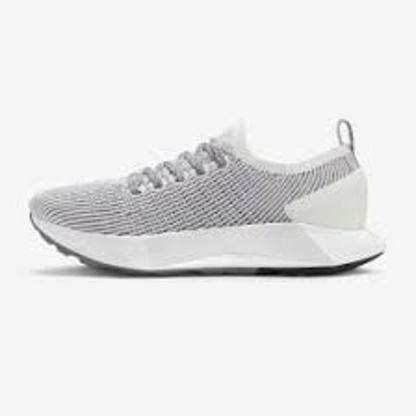not trash: (29, 116, 390, 276)
